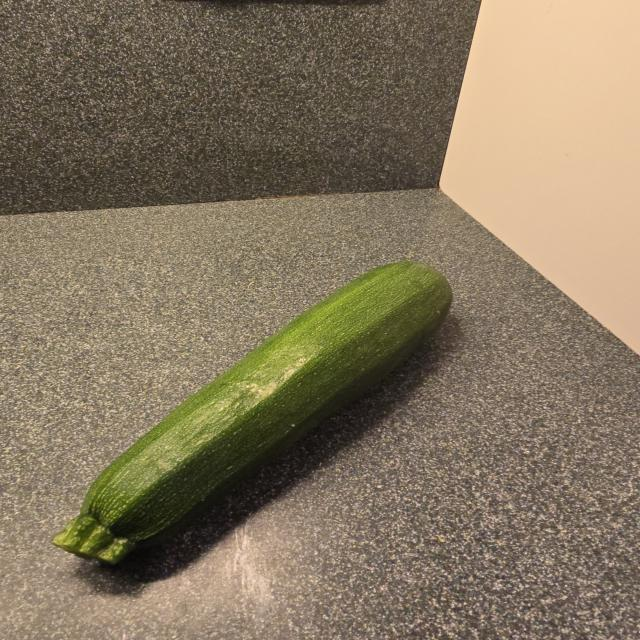Courgette: (53, 262, 452, 564)
